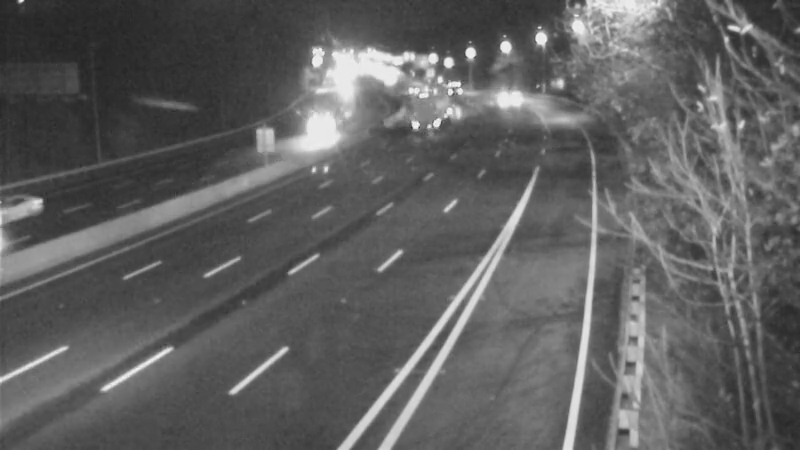vehicle: (1, 182, 68, 262), (476, 70, 526, 120), (402, 79, 452, 129), (296, 104, 346, 154)
